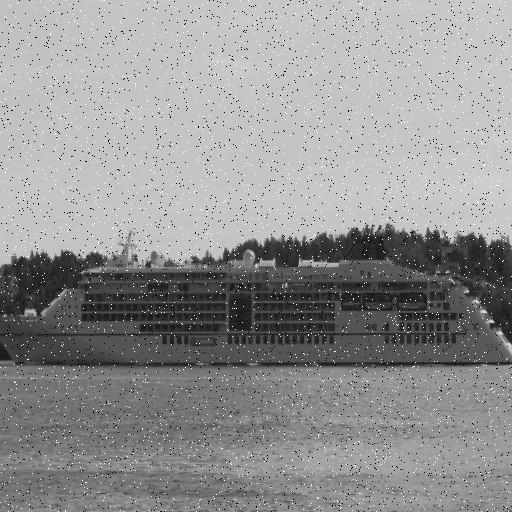cruises: (1, 229, 512, 380)
